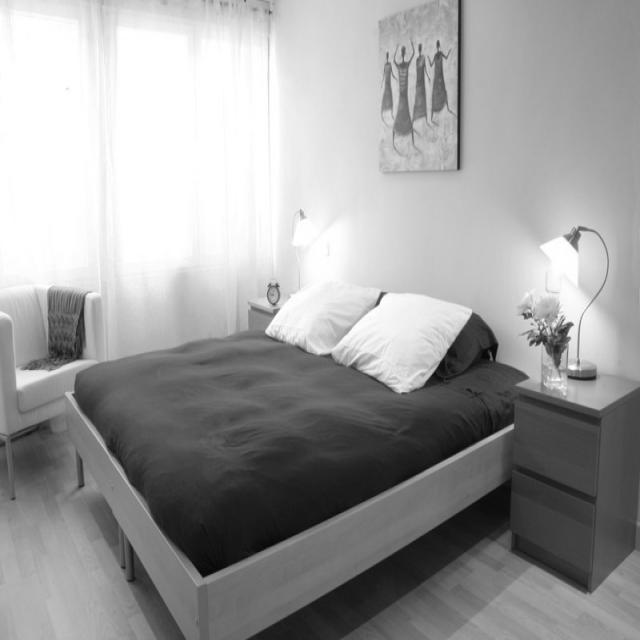bed -occluded-: (64, 278, 544, 639)
curtain crop: (1, 0, 274, 440)
floor -X: (1, 362, 639, 639)
lamp crop: (538, 222, 610, 380)
painting crop: (378, 0, 462, 171)
wall clock: (270, 0, 639, 551)
